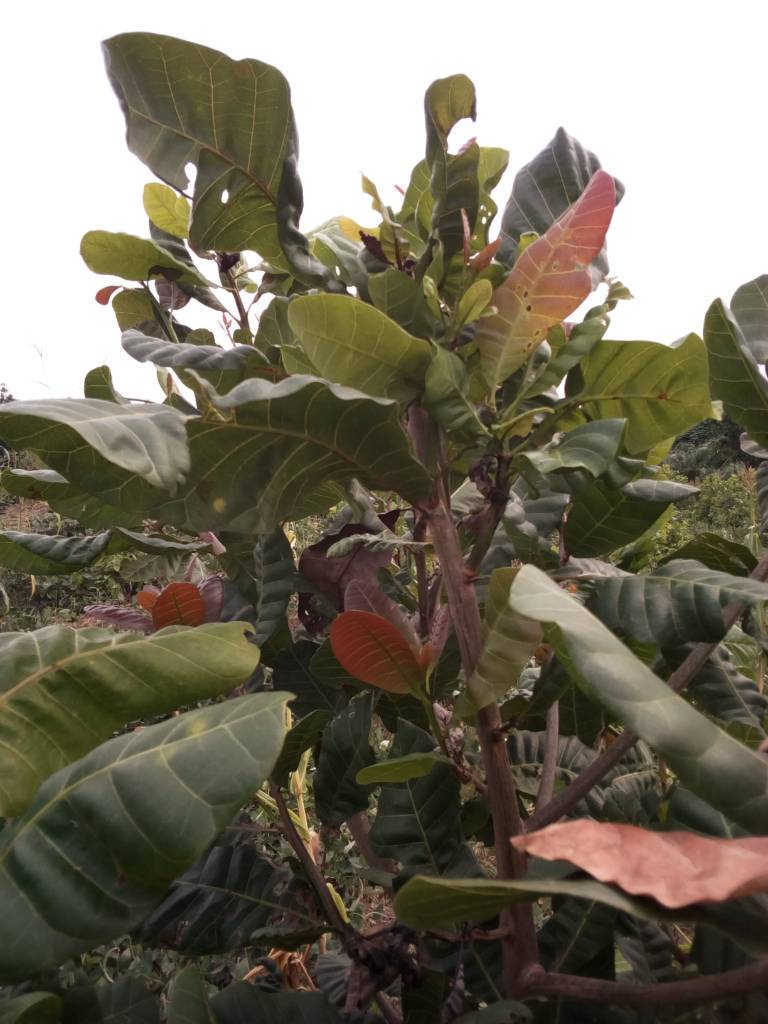Pestalotiose: (480, 180, 608, 397)
